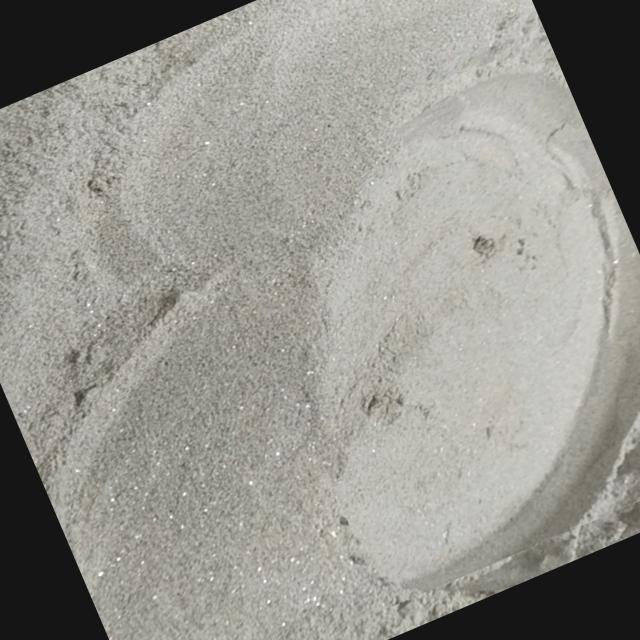C40: (324, 73, 640, 590)
